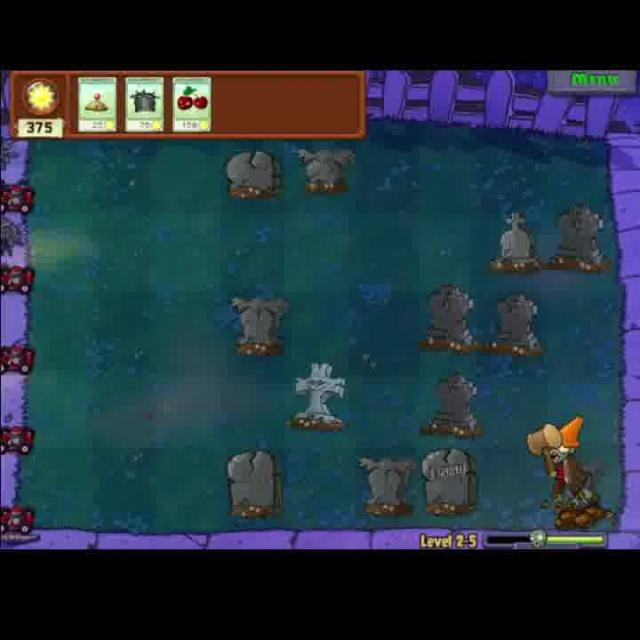coins: (534, 412, 596, 522)
